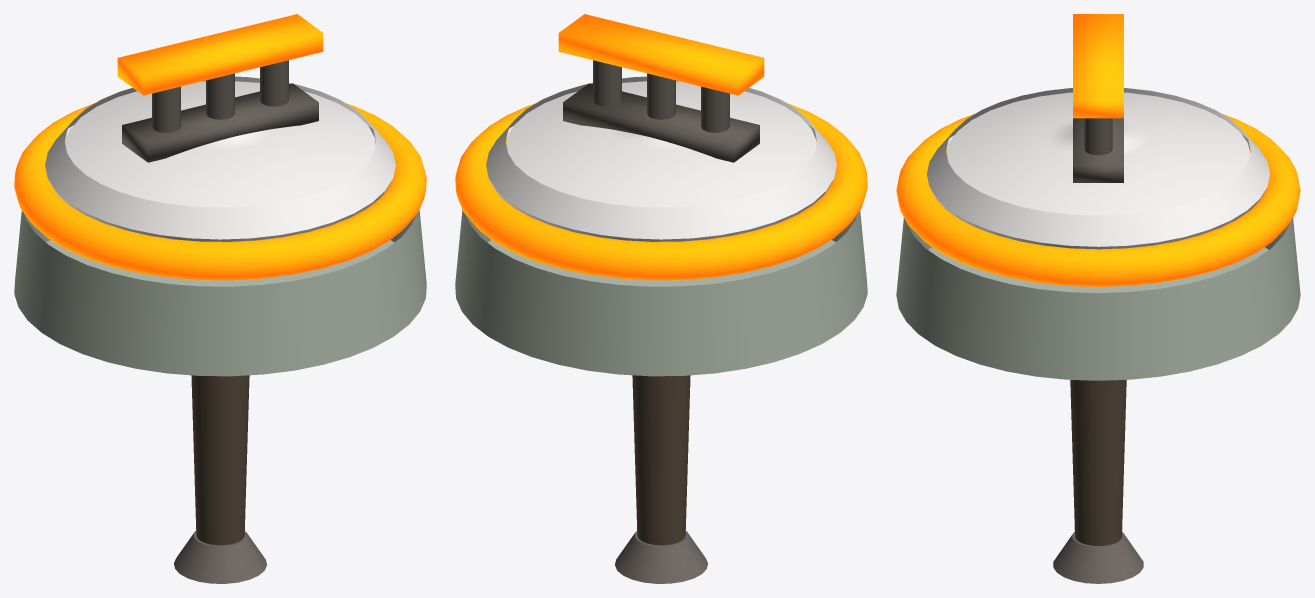
Rendered from poi-culture.glb.
The picture shows the model from 3 angles, left to right: view 1: azimuth 30°, elevation 25°; view 2: azimuth 150°, elevation 25°; view 3: azimuth 270°, elevation 25°; orthographic projection. The views are drawn at different scales.
Visible parts, largest first — view 1: culture_head, culture_plate_dome, culture_ring, culture_plate_bevel, culture_stem, culture_lintel, culture_base, culture_foot, culture_col2, culture_col1, culture_col0, culture_collar (+1 smaller); view 2: culture_head, culture_plate_dome, culture_ring, culture_plate_bevel, culture_stem, culture_lintel, culture_base, culture_foot, culture_col2, culture_col1, culture_col0, culture_collar (+1 smaller); view 3: culture_head, culture_plate_dome, culture_ring, culture_plate_bevel, culture_stem, culture_lintel, culture_foot, culture_base, culture_collar, culture_plate_wall, culture_col2.
Part boxes in pixels (bbox=[...]): culture_head: bbox=[14, 209, 426, 376]; culture_plate_dome: bbox=[65, 81, 375, 207]; culture_ring: bbox=[14, 103, 426, 280]; culture_plate_bevel: bbox=[45, 76, 395, 239]; culture_stem: bbox=[191, 375, 249, 545]; culture_lintel: bbox=[117, 14, 323, 95]; culture_base: bbox=[122, 83, 318, 162]; culture_foot: bbox=[174, 530, 266, 583]; culture_col2: bbox=[260, 60, 288, 106]; culture_col1: bbox=[206, 73, 234, 119]; culture_col0: bbox=[152, 86, 180, 132]; culture_collar: bbox=[134, 272, 306, 286]; culture_head: bbox=[455, 209, 867, 376]; culture_plate_dome: bbox=[506, 81, 816, 207]; culture_ring: bbox=[455, 103, 867, 280]; culture_plate_bevel: bbox=[486, 76, 836, 239]; culture_stem: bbox=[632, 375, 690, 545]; culture_lintel: bbox=[558, 14, 764, 95]; culture_base: bbox=[563, 83, 759, 162]; culture_foot: bbox=[615, 530, 707, 583]; culture_col2: bbox=[593, 60, 621, 106]; culture_col1: bbox=[647, 73, 675, 119]; culture_col0: bbox=[701, 86, 729, 132]; culture_collar: bbox=[575, 272, 747, 286]; culture_head: bbox=[896, 218, 1300, 380]; culture_plate_dome: bbox=[946, 92, 1250, 215]; culture_ring: bbox=[896, 114, 1300, 286]; culture_plate_bevel: bbox=[927, 88, 1269, 246]; culture_stem: bbox=[1070, 380, 1126, 545]; culture_lintel: bbox=[1073, 14, 1123, 118]; culture_foot: bbox=[1053, 531, 1143, 583]; culture_base: bbox=[1073, 118, 1123, 182]; culture_collar: bbox=[1013, 279, 1183, 292]; culture_plate_wall: bbox=[930, 135, 1266, 249]; culture_col2: bbox=[1084, 118, 1112, 155].
Bounding box in the file's own units: 0.796 × 1.1 × 0.796.
